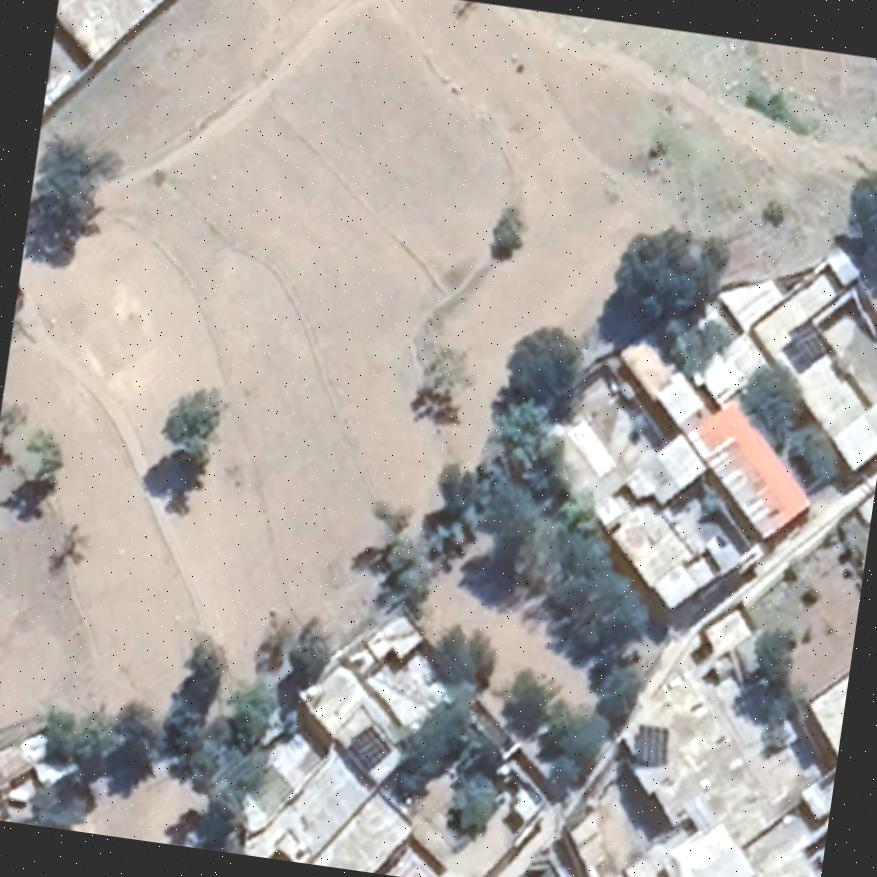Solarpanel: (335, 714, 398, 780), (777, 312, 836, 368), (628, 720, 672, 770)
